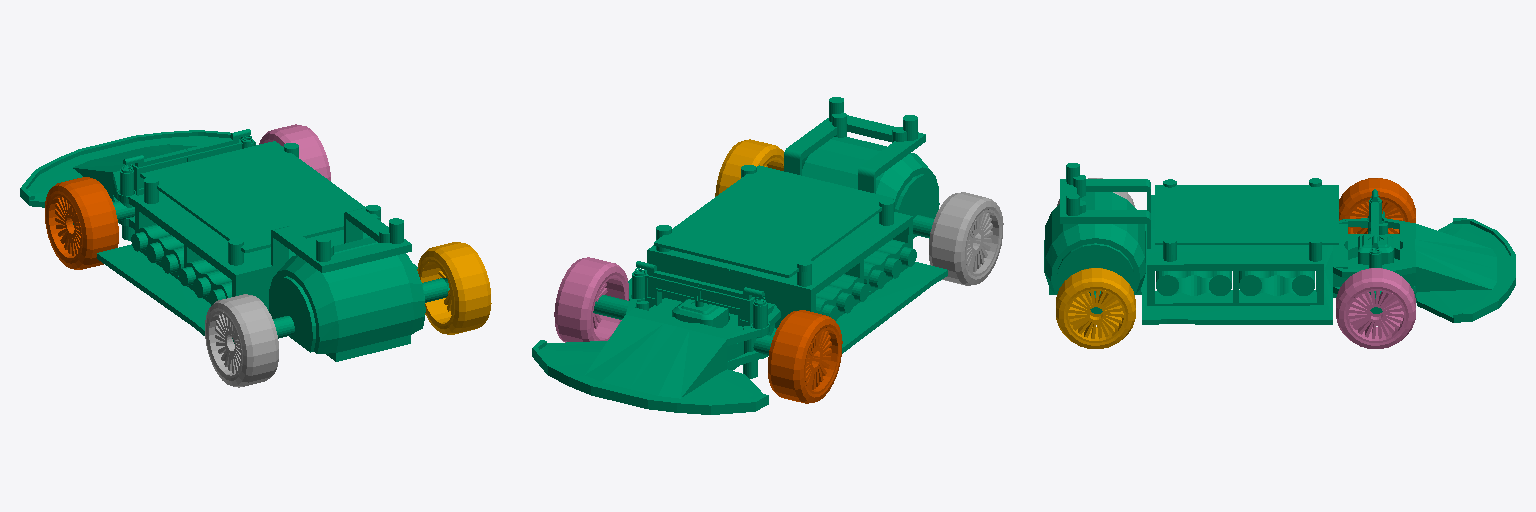
The robot description file, URDF, robot "traxxas":
<?xml version="1.0" ?>
<!-- =================================================================================== -->
<!-- |    This document was autogenerated by xacro from model.xacro.urdf               | -->
<!-- |    EDITING THIS FILE BY HAND IS NOT RECOMMENDED                                 | -->
<!-- =================================================================================== -->
<robot name="traxxas" xmlns:xacro="http://ros.org/wiki/xacro">
  <!--- Surface properties must come first? -->
  <gazebo reference="front_left_wheel">
    <mu1>0.9</mu1>
    <mu2>0.9</mu2>
    <minDepth>0.005</minDepth>
    <kp>1e8</kp>
  </gazebo>
  <gazebo reference="front_right_wheel">
    <mu1>0.9</mu1>
    <mu2>0.9</mu2>
    <minDepth>0.005</minDepth>
    <kp>1e8</kp>
  </gazebo>
  <gazebo reference="rear_left_wheel">
    <mu1>0.9</mu1>
    <mu2>0.9</mu2>
    <minDepth>0.005</minDepth>
    <kp>1e8</kp>
  </gazebo>
  <gazebo reference="rear_right_wheel">
    <mu1>0.9</mu1>
    <mu2>0.9</mu2>
    <minDepth>0.005</minDepth>
    <kp>1e8</kp>
  </gazebo>
  <!--- Links -->
  <link name="base_link">
    <inertial>
      <mass value="1"/>
      <inertia ixx="0.001" ixy="0.0" ixz="0.0" iyy="0.001" iyz="0.0" izz="0.001"/>
    </inertial>
  </link>
  <link name="steering_wheel">
    <inertial>
      <mass value="1.0"/>
      <inertia ixx="0.14583300" ixy="0.0" ixz="0.0" iyy="0.14583300" iyz="0.0" izz="0.125"/>
    </inertial>
  </link>
  <link name="chassis">
    <visual>
      <origin rpy="0 0 0" xyz="0 0 -0.07"/>
      <geometry>
        <mesh filename="package://traxxas_ros_gazebo/meshes/body.obj" scale="0.1 0.1 0.1"/>
      </geometry>
    </visual>
    <collision name="chassis">
      <origin rpy="0 0 0" xyz="0 0.07 0"/>
      <geometry>
        <box size="0.3 0.65 0.15"/>
      </geometry>
    </collision>
    <inertial>
      <mass value="13.0"/>
      <origin rpy="0 0 0" xyz="0 0 0.48"/>
      <inertia ixx="2581.13354740" ixy="0.0" ixz="0.0" iyy="591.30846112" iyz="0.0" izz="2681.95008628"/>
    </inertial>
    <origin rpy="0 0 0" xyz="0 0 0"/>
  </link>
  <link name="fl_axle">
    <inertial>
      <mass value="1"/>
      <origin xyz="0 0 1"/>
      <inertia ixx="0.004" ixy="0.0" ixz="0.0" iyy="0.004" iyz="0.0" izz="0.004"/>
    </inertial>
  </link>
  <link name="fr_axle">
    <inertial>
      <mass value="1"/>
      <origin xyz="0 0 1"/>
      <inertia ixx="0.004" ixy="0.0" ixz="0.0" iyy="0.004" iyz="0.0" izz="0.004"/>
    </inertial>
  </link>
  <link name="front_left_wheel">
    <inertial>
      <mass value="11"/>
      <origin xyz="0 0 0"/>
      <inertia ixx="0.58631238" ixy="0.0" ixz="0.0" iyy="0.33552910" iyz="0.0" izz="0.33552910"/>
    </inertial>
    <collision name="front_left_wheel_collision">
      <geometry>
        <cylinder length="0.042" radius="0.054"/>
      </geometry>
      <origin rpy="0 3.14159265359 0" xyz="0 0 0.0025"/>
    </collision>
    <visual>
      <origin rpy="0 3.14159265359 0" xyz="0 0 0.0025"/>
      <geometry>
        <mesh filename="package://traxxas_ros_gazebo/meshes/wheel.obj" scale="0.1 0.1 0.1"/>
      </geometry>
    </visual>
  </link>
  <link name="front_right_wheel">
    <inertial>
      <mass value="11"/>
      <origin xyz="0 0 0"/>
      <inertia ixx="0.58631238" ixy="0.0" ixz="0.0" iyy="0.33552910" iyz="0.0" izz="0.33552910"/>
    </inertial>
    <collision name="front_right_wheel_collision">
      <geometry>
        <cylinder length="0.042" radius="0.054"/>
      </geometry>
      <origin rpy="0 0 0" xyz="0 0 0.0025"/>
    </collision>
    <visual>
      <origin rpy="0 0 0" xyz="0 0 0.0025"/>
      <geometry>
        <mesh filename="package://traxxas_ros_gazebo/meshes/wheel.obj" scale="0.1 0.1 0.1"/>
      </geometry>
    </visual>
  </link>
  <link name="rear_left_wheel">
    <inertial>
      <mass value="11"/>
      <origin xyz="0 0 0"/>
      <inertia ixx="0.58631238" ixy="0.0" ixz="0.0" iyy="0.33552910" iyz="0.0" izz="0.33552910"/>
    </inertial>
    <collision name="rear_left_wheel_collision">
      <geometry>
        <cylinder length="0.042" radius="0.054"/>
      </geometry>
      <origin rpy="0 3.14159265359 0" xyz="0 0 0.0025"/>
    </collision>
    <visual>
      <origin rpy="0 3.14159265359 0" xyz="0 0 0.0025"/>
      <geometry>
        <mesh filename="package://traxxas_ros_gazebo/meshes/wheel.obj" scale="0.1 0.1 0.1"/>
      </geometry>
    </visual>
  </link>
  <link name="rear_right_wheel">
    <inertial>
      <mass value="11"/>
      <origin xyz="0 0 0"/>
      <inertia ixx="0.58631238" ixy="0.0" ixz="0.0" iyy="0.33552910" iyz="0.0" izz="0.33552910"/>
    </inertial>
    <collision name="rear_right_wheel_collision">
      <geometry>
        <cylinder length="0.042" radius="0.054"/>
      </geometry>
      <origin rpy="0 0 0" xyz="0 0 0.0025"/>
    </collision>
    <visual>
      <origin rpy="0 0 0" xyz="0 0 0.0025"/>
      <geometry>
        <mesh filename="package://traxxas_ros_gazebo/meshes/wheel.obj" scale="0.1 0.1 0.1"/>
      </geometry>
    </visual>
  </link>
  <!--- Joints -->
  <joint name="base_link_connection" type="fixed">
    <parent link="base_link"/>
    <child link="chassis"/>
    <origin rpy="0 0 0" xyz="0 0 0"/>
    <axis xyz="1 0 0"/>
  </joint>
  <joint name="steering_joint" type="revolute">
    <origin rpy="0 0 0" xyz="0 0 0.03"/>
    <parent link="chassis"/>
    <child link="steering_wheel"/>
    <axis xyz="0 0 1"/>
    <limit effort="10000000" lower="-3.14159265359" upper="3.14159265359" velocity="1000000"/>
  </joint>
  <joint name="front_left_steer_joint" type="revolute">
    <origin rpy="0 0 0" xyz="-0.12 0.2 -0.02"/>
    <parent link="chassis"/>
    <child link="fl_axle"/>
    <axis xyz="0 0 1"/>
    <limit effort="10000000" lower="-0.523598775598" upper="0.523598775598" velocity="1000000"/>
  </joint>
  <joint name="front_right_steer_joint" type="revolute">
    <origin rpy="0 0 0" xyz="0.12 0.2 -0.02"/>
    <parent link="chassis"/>
    <child link="fr_axle"/>
    <axis xyz="0 0 1"/>
    <limit effort="10000000" lower="-0.523598775598" upper="0.523598775598" velocity="1000000"/>
  </joint>
  <joint name="front_left_wheel_joint" type="continuous">
    <parent link="fl_axle"/>
    <child link="front_left_wheel"/>
    <origin rpy="0 0 0" xyz="0 0 0"/>
    <axis xyz="1 0 0"/>
  </joint>
  <joint name="front_right_wheel_joint" type="continuous">
    <parent link="fr_axle"/>
    <child link="front_right_wheel"/>
    <origin rpy="0 0 0" xyz="0 0 0"/>
    <axis xyz="1 0 0"/>
  </joint>
  <joint name="rear_left_wheel_joint" type="continuous">
    <parent link="chassis"/>
    <child link="rear_left_wheel"/>
    <origin rpy="0 0 0" xyz="-0.12 -0.175 -0.02"/>
    <axis xyz="1 0 0"/>
  </joint>
  <joint name="rear_right_wheel_joint" type="continuous">
    <parent link="chassis"/>
    <child link="rear_right_wheel"/>
    <origin rpy="0 0 0" xyz="0.12 -0.175 -0.02"/>
    <axis xyz="1 0 0"/>
  </joint>
  <!-- Sensor links and fixed joints -->
  <link name="center_laser_link">
    <inertial>
      <mass value="1"/>
      <inertia ixx="0.001" ixy="0.0" ixz="0.0" iyy="0.001" iyz="0.0" izz="0.001"/>
    </inertial>
  </link>
  <joint name="center_laser_joint" type="fixed">
    <parent link="chassis"/>
    <child link="center_laser_link"/>
    <origin rpy="0 0 -1.57079632679" xyz="0 0.2 0.03"/>
  </joint>
  <gazebo reference="base_link_connection">
    <disableFixedJointLumping>true</disableFixedJointLumping>
  </gazebo>
  <link name="front_camera_link">
    <inertial>
      <mass value="1"/>
      <inertia ixx="0.001" ixy="0.0" ixz="0.0" iyy="0.001" iyz="0.0" izz="0.001"/>
    </inertial>
  </link>
  <joint name="front_camera_joint" type="fixed">
    <parent link="chassis"/>
    <child link="front_camera_link"/>
    <origin rpy="0 0 -1.57079632679" xyz="0 0.2 0.03"/>
  </joint>
  <gazebo>
    <plugin filename="libTraxxasPlugin.so" name="pruis__drive">
      <chassis>chassis</chassis>
      <front_left_wheel>front_left_wheel_joint</front_left_wheel>
      <front_right_wheel>front_right_wheel_joint</front_right_wheel>
      <front_left_wheel_steering>front_left_steer_joint</front_left_wheel_steering>
      <front_right_wheel_steering>front_right_steer_joint</front_right_wheel_steering>
      <back_left_wheel>rear_left_wheel_joint</back_left_wheel>
      <back_right_wheel>rear_right_wheel_joint</back_right_wheel>
      <steering_wheel>steering_joint</steering_wheel>
      <chassis_aero_force_gain>0.63045</chassis_aero_force_gain>
      <front_torque>859.4004393000001</front_torque>
      <back_torque>0</back_torque>
      <front_brake_torque>1031.28052716</front_brake_torque>
      <back_brake_torque>687.5203514400001</back_brake_torque>
      <max_speed>37.998337013956565</max_speed>
      <min_gas_flow>8.981854013171626e-05</min_gas_flow>
      <gas_efficiency>0.371</gas_efficiency>
      <battery_charge_watt_hours>291</battery_charge_watt_hours>
      <battery_discharge_watt_hours>214</battery_discharge_watt_hours>
      <max_steer>0.6458</max_steer>
      <flwheel_steering_p_gain>1e4</flwheel_steering_p_gain>
      <frwheel_steering_p_gain>1e4</frwheel_steering_p_gain>
      <flwheel_steering_i_gain>0</flwheel_steering_i_gain>
      <frwheel_steering_i_gain>0</frwheel_steering_i_gain>
      <flwheel_steering_d_gain>3e2</flwheel_steering_d_gain>
      <frwheel_steering_d_gain>3e2</frwheel_steering_d_gain>
    </plugin>
  </gazebo>
  <gazebo>
    <plugin filename="libgazebo_ros_joint_state_publisher.so" name="joint_state_publisher">
      <!-- <robotNamespace>/traxxas</robotNamespace> -->
      <jointName>rear_right_wheel_joint, rear_left_wheel_joint, front_right_wheel_joint, front_left_wheel_joint, front_right_steer_joint, front_left_steer_joint, steering_joint</jointName>
      <updateRate>100.0</updateRate>
      <alwaysOn>true</alwaysOn>
    </plugin>
  </gazebo>
  <gazebo>
    <plugin filename="libgazebo_ros_p3d.so" name="p3d">
      <!-- <robotNamespace>/traxxas</robotNamespace> -->
      <bodyName>base_link</bodyName>
      <topicName>base_pose_ground_truth</topicName>
      <frameName>map</frameName>
      <updateRate>100.0</updateRate>
    </plugin>
  </gazebo>
  <gazebo reference="center_laser_link">
    <sensor name="center_laser_sensor" type="ray">
      <ray>
        <scan>
          <horizontal>
            <samples>512</samples>
            <resolution>1</resolution>
            <min_angle>-3.14</min_angle>
            <max_angle>3.14</max_angle>
          </horizontal>
          <vertical>
            <samples>16</samples>
            <min_angle>-0.1</min_angle>
            <max_angle>-0.35</max_angle>
          </vertical>
        </scan>
        <range>
          <min>0.2</min>
          <max>30</max>
          <resolution>0.01</resolution>
        </range>
      </ray>
      <plugin filename="libgazebo_ros_custom_block_laser_plugin.so" name="center_laser">
        <topicName>/traxxas/center_laser/scan</topicName>
        <frameName>center_laser_link</frameName>
      </plugin>
      <always_on>1</always_on>
      <update_rate>30</update_rate>
      <visualize>0</visualize>
    </sensor>
  </gazebo>
  <gazebo reference="front_camera_link">
    <sensor name="front_camera_sensor" type="camera">
      <update_rate>30.0</update_rate>
      <camera name="front_camera">
        <horizontal_fov>1.3962634</horizontal_fov>
        <image>
          <width>800</width>
          <height>800</height>
          <format>R8G8B8</format>
        </image>
        <clip>
          <near>0.02</near>
          <far>300</far>
        </clip>
        <noise>
          <type>gaussian</type>
          <mean>0.0</mean>
          <stddev>0.007</stddev>
        </noise>
      </camera>
      <plugin filename="libgazebo_ros_camera.so" name="front_camera_controller">
        <alwaysOn>false</alwaysOn>
        <updateRate>0.0</updateRate>
        <cameraName>/traxxas/front_camera</cameraName>
        <imageTopicName>image_raw</imageTopicName>
        <cameraInfoTopicName>/traxxas/front_camera_info</cameraInfoTopicName>
        <frameName>camera_link</frameName>
        <hackBaseline>0.07</hackBaseline>
        <distortionK1>0.0</distortionK1>
        <distortionK2>0.0</distortionK2>
        <distortionK3>0.0</distortionK3>
        <distortionT1>0.0</distortionT1>
        <distortionT2>0.0</distortionT2>
      </plugin>
    </sensor>
  </gazebo>
</robot>

--- Render facts (derived) ---
The picture shows the robot from 3 angles, left to right: view 1: azimuth 30°, elevation 25°; view 2: azimuth 150°, elevation 25°; view 3: azimuth 270°, elevation 25°; orthographic projection.
Robot: traxxas — 11 links, 10 joints (3 revolute, 4 continuous, 3 fixed); root link base_link; default pose: every joint at zero.
Visible links, largest first — view 1: chassis, rear_left_wheel, front_left_wheel, rear_right_wheel, front_right_wheel; view 2: chassis, front_left_wheel, rear_left_wheel, front_right_wheel, rear_right_wheel; view 3: chassis, rear_right_wheel, front_right_wheel, front_left_wheel.
Link boxes in pixels (bbox=[...]): chassis: bbox=[20, 129, 449, 361]; rear_left_wheel: bbox=[205, 294, 278, 387]; front_left_wheel: bbox=[45, 177, 118, 269]; rear_right_wheel: bbox=[417, 242, 491, 334]; front_right_wheel: bbox=[259, 124, 330, 180]; chassis: bbox=[532, 97, 947, 414]; front_left_wheel: bbox=[768, 310, 842, 403]; rear_left_wheel: bbox=[929, 192, 1003, 285]; front_right_wheel: bbox=[554, 257, 628, 342]; rear_right_wheel: bbox=[715, 139, 783, 196]; chassis: bbox=[1044, 163, 1515, 324]; rear_right_wheel: bbox=[1056, 268, 1135, 348]; front_right_wheel: bbox=[1336, 268, 1415, 348]; front_left_wheel: bbox=[1339, 178, 1415, 233].
Size in the robot's own frame: 0.3337 by 0.6306 by 0.1743 metres.
5 mesh visuals loaded from 2 distinct referenced files (2 OBJ).
